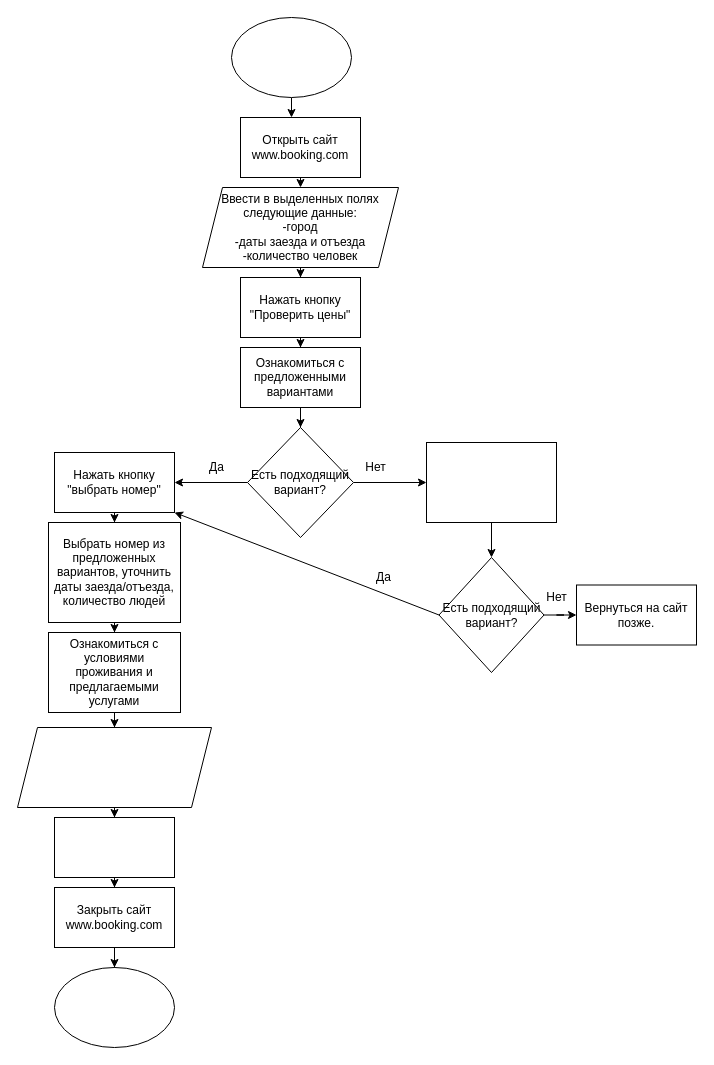
The diagram is 714 pixels wide and 1065 high, and some of its shapes have lost their labels. The shapes that lost their labels are listed below. From the top down, each one's centre as x and y in pixels, then its label:
the point at 291,57: Начало
the point at 491,482: Ввести дополнительные критерии в поля расширенного фильтра слева
the point at 114,767: Ввести личные данные, номер кредитной/дебетовой карты
the point at 114,847: Завершение бронирования/оплата
the point at 114,1007: Конец
